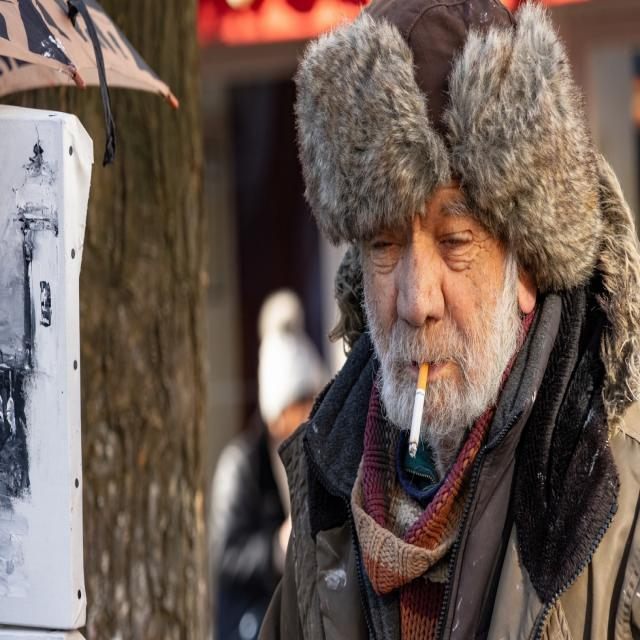cigarette: (408, 360, 430, 465)
